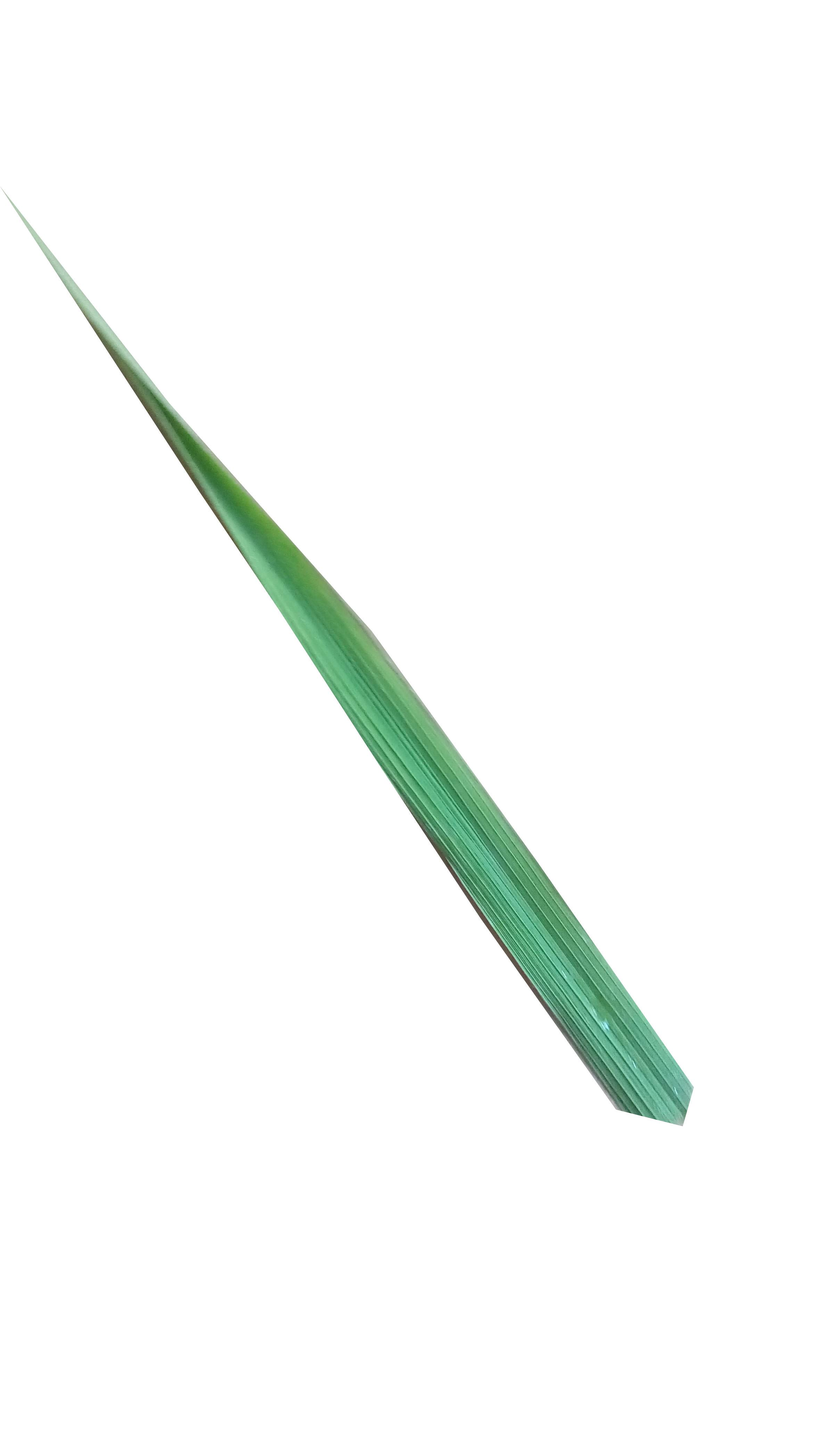Healthy: (0, 186, 695, 1132)
